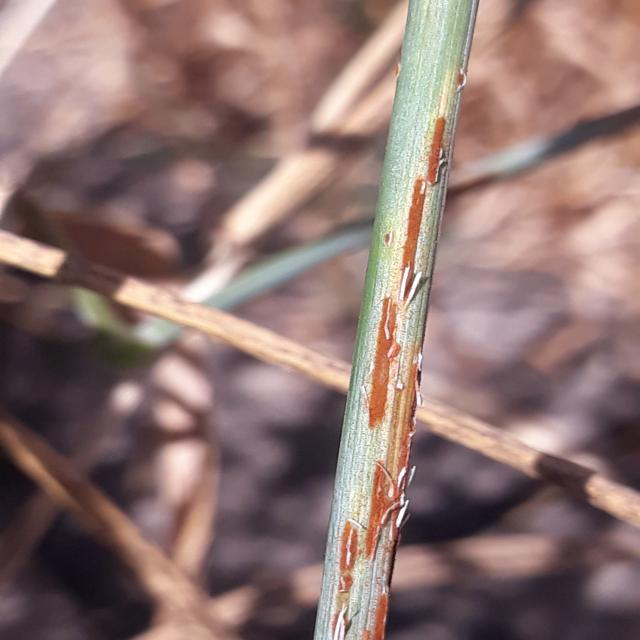black_stem_rust: (277, 0, 513, 640)
